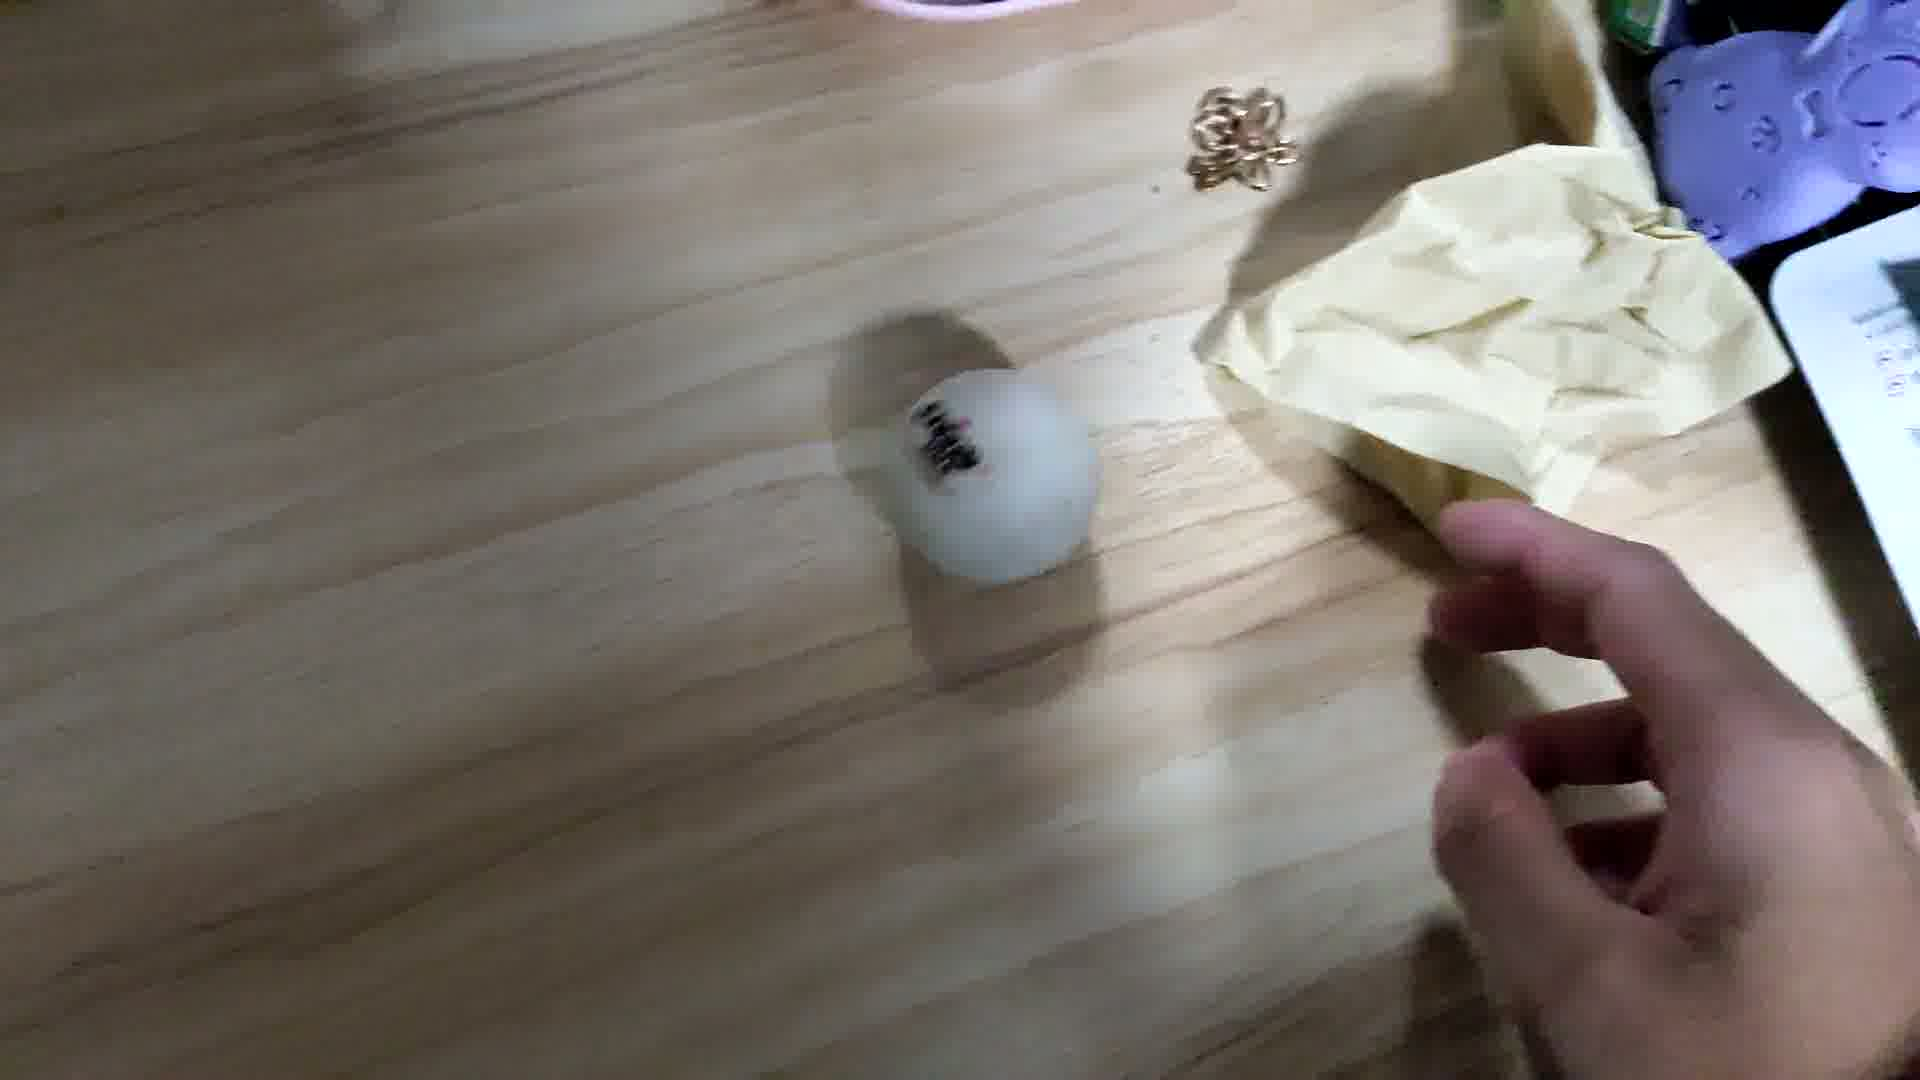Ball: (891, 369, 1098, 592)
